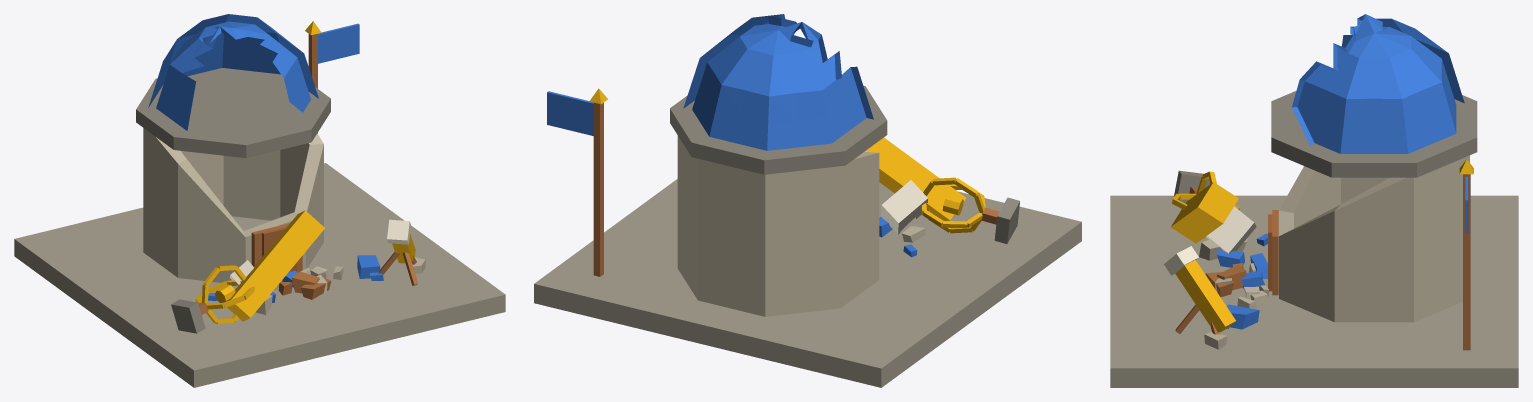
File: observatory_t2_v1_dmg1.glb
The picture shows the model from 3 angles, left to right: view 1: azimuth 30°, elevation 25°; view 2: azimuth 150°, elevation 25°; view 3: azimuth 270°, elevation 25°; orthographic projection. The views are drawn at different scales.
Parts seen in each view (by area): view 1: observatory_t2_v1_dmg1; view 2: observatory_t2_v1_dmg1; view 3: observatory_t2_v1_dmg1.
Part boxes in pixels (x1,y1,x2,y2): observatory_t2_v1_dmg1: (14,14,505,387); observatory_t2_v1_dmg1: (534,14,1081,387); observatory_t2_v1_dmg1: (1110,14,1518,387).
Bounding box in the file's own units: 0.775 × 0.5642 × 0.75.
Materials: 1 (1 with a texture image).
